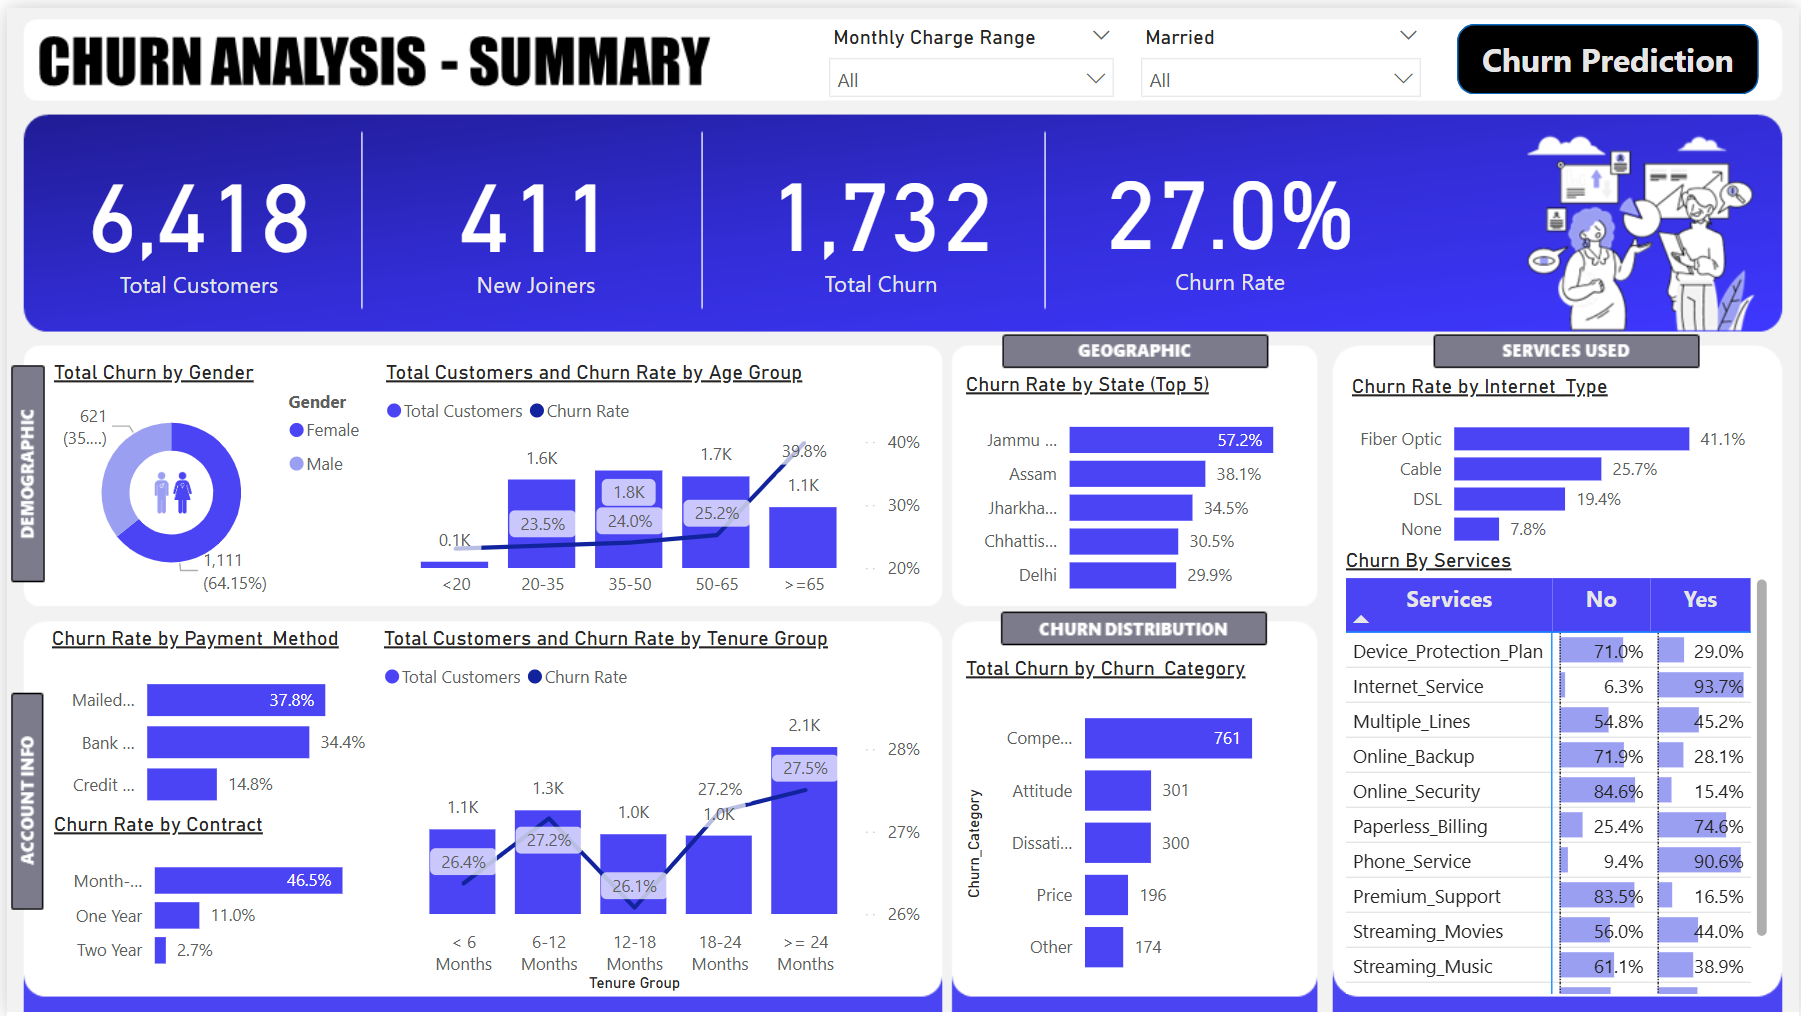

Layout of this report page (visuals, bound fields, positions):
{"tool":"powerbi","page":{"name":"Summary","canvas":[1280,720],"ordinal":0},"visuals":[{"type":"image","box":[80,321.4,77.1,48.6],"z":0},{"type":"card","fields":{"Values":["Measures_Table.Total Customers"]},"box":[22.9,88.6,228.6,124.3],"z":1000},{"type":"card","fields":{"Values":["Measures_Table.New Joiners"]},"box":[251.4,88.6,252.9,124.3],"z":2000},{"type":"card","fields":{"Values":["Measures_Table.Total Churn"]},"box":[504.3,84.3,240,131.4],"z":3000},{"type":"card","fields":{"Values":["Measures_Table.Churn Rate"]},"box":[769.6,72.9,207.4,152.3],"z":4000},{"type":"donutChart","fields":{"Category":["prod_Churn.Gender"],"Y":["Measures_Table.Total Churn"]},"box":[28.6,251.4,238.6,172.9],"z":5000},{"type":"lineStackedColumnComboChart","fields":{"Category":["Mapping_AgeGroup.Age Group"],"Y":["Measures_Table.Total Customers"],"Y2":["Measures_Table.Churn Rate"]},"box":[265.7,251.4,391.4,178.6],"z":6000},{"type":"clusteredBarChart","fields":{"Category":["prod_Churn.Payment_Method"],"Y":["Measures_Table.Churn Rate"]},"box":[27.1,441.4,238.6,142.9],"z":7000},{"type":"clusteredBarChart","fields":{"Category":["prod_Churn.Contract"],"Y":["Measures_Table.Churn Rate"]},"box":[28.6,574.3,255.7,124.3],"z":8000},{"type":"lineStackedColumnComboChart","fields":{"Category":["map_TenureGroup.Tenure Group"],"Y":["Measures_Table.Total Customers"],"Y2":["Measures_Table.Churn Rate"]},"box":[264.3,441.4,392.9,265.7],"z":9000},{"type":"clusteredBarChart","title":"Churn Rate by State (Top 5)","fields":{"Y":["Measures_Table.Churn Rate"],"Category":["prod_Churn.State"]},"box":[680,260,263.3,170],"z":10000},{"type":"clusteredBarChart","fields":{"Y":["Measures_Table.Total Churn"],"Category":["prod_Churn.Churn_Category"]},"box":[680,463.3,238.3,243.3],"z":11000},{"type":"clusteredBarChart","fields":{"Y":["Measures_Table.Churn Rate"],"Category":["prod_Churn.Internet_Type"]},"box":[955,261.7,296.7,133.3],"z":12000},{"type":"pivotTable","title":"Churn By Services","fields":{"Rows":["prod_Services.Services"],"Columns":["prod_Services.Status"],"Values":["Sum(prod_Services.Churn Status)"]},"box":[951.7,385,311.7,323.3],"z":13000},{"type":"slicer","fields":{"Values":["prod_Churn.Monthly Charge Status"]},"box":[576.7,6.7,223.3,61.7],"z":14000},{"type":"slicer","fields":{"Values":["prod_Churn.Married"]},"box":[800,6.7,220,60],"z":15000},{"type":"shape","box":[1035.3,11.3,215.5,50.2],"z":15001}]}

Visuals, with their boxes in screenshot pixels (x1, y1, x2, y2), scaled from the page's 1280x720 canvas onto the 1801x1016 screenshot:
image: bbox=(113, 454, 221, 522)
card - Measures_Table.Total Customers: bbox=(32, 125, 354, 300)
card - Measures_Table.New Joiners: bbox=(354, 125, 710, 300)
card - Measures_Table.Total Churn: bbox=(710, 119, 1047, 304)
card - Measures_Table.Churn Rate: bbox=(1083, 103, 1375, 318)
donutChart - prod_Churn.Gender x Measures_Table.Total Churn: bbox=(40, 355, 376, 599)
lineStackedColumnComboChart - Mapping_AgeGroup.Age Group x Measures_Table.Total Customers: bbox=(374, 355, 925, 607)
clusteredBarChart - prod_Churn.Payment_Method x Measures_Table.Churn Rate: bbox=(38, 623, 374, 825)
clusteredBarChart - prod_Churn.Contract x Measures_Table.Churn Rate: bbox=(40, 810, 400, 986)
lineStackedColumnComboChart - map_TenureGroup.Tenure Group x Measures_Table.Total Customers: bbox=(372, 623, 925, 998)
"Churn Rate by State (Top 5)" clusteredBarChart: bbox=(957, 367, 1327, 607)
clusteredBarChart - Measures_Table.Total Churn x prod_Churn.Churn_Category: bbox=(957, 654, 1292, 997)
clusteredBarChart - Measures_Table.Churn Rate x prod_Churn.Internet_Type: bbox=(1344, 369, 1761, 557)
"Churn By Services" pivotTable: bbox=(1339, 543, 1778, 999)
slicer - prod_Churn.Monthly Charge Status: bbox=(811, 9, 1126, 97)
slicer - prod_Churn.Married: bbox=(1126, 9, 1435, 94)
shape: bbox=(1457, 16, 1760, 87)
